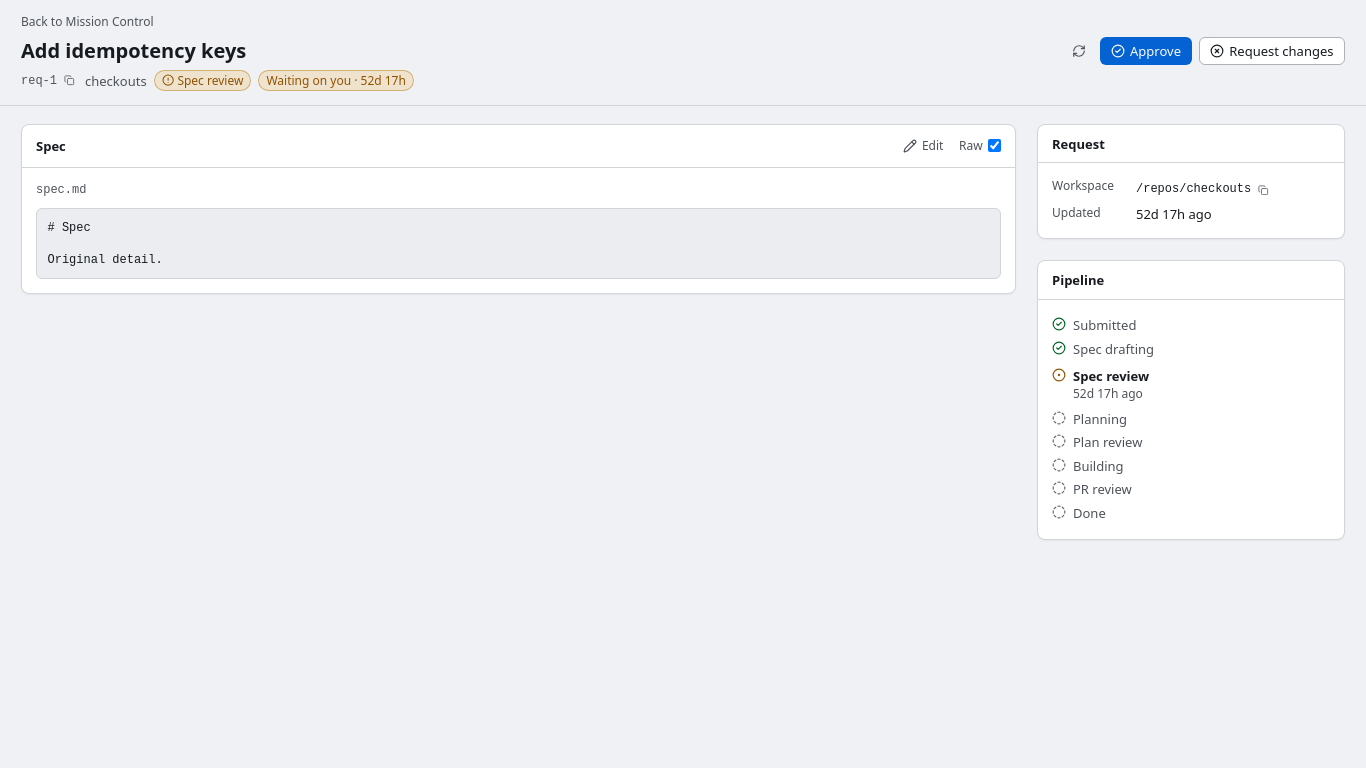
Test case: a conflict without a reported hash cannot be re-based
Expected: the heading "Add idempotency keys" is shown, x1=21 y1=37 x2=246 y2=64
Expected: the button "Approve" is enabled, x1=1100 y1=37 x2=1192 y2=65
Click the button "Edit": (923, 146) x1=894 y1=134 x2=952 y2=158
(page scrolled)
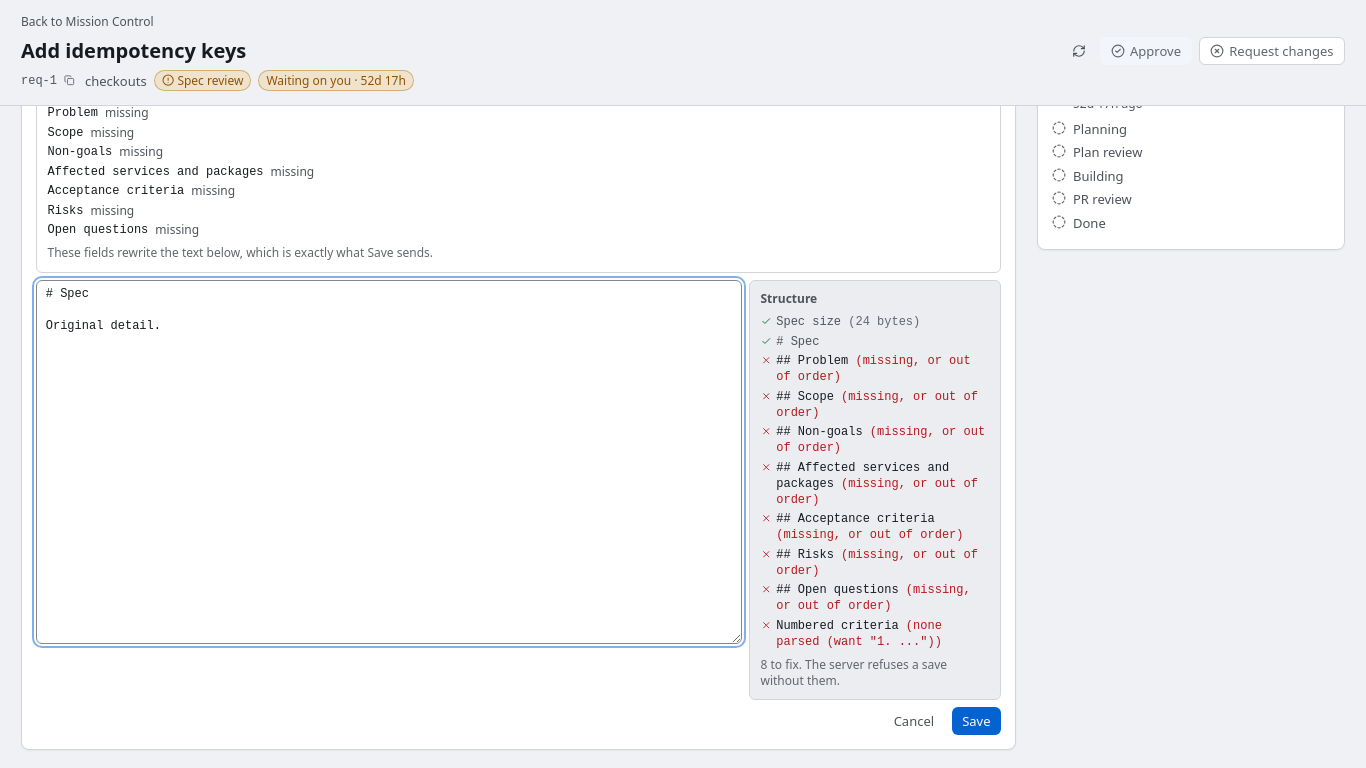
In the text box named "Edit spec.md": (389, 462) x1=36 y1=280 x2=742 y2=644, type " more"
(page scrolled)
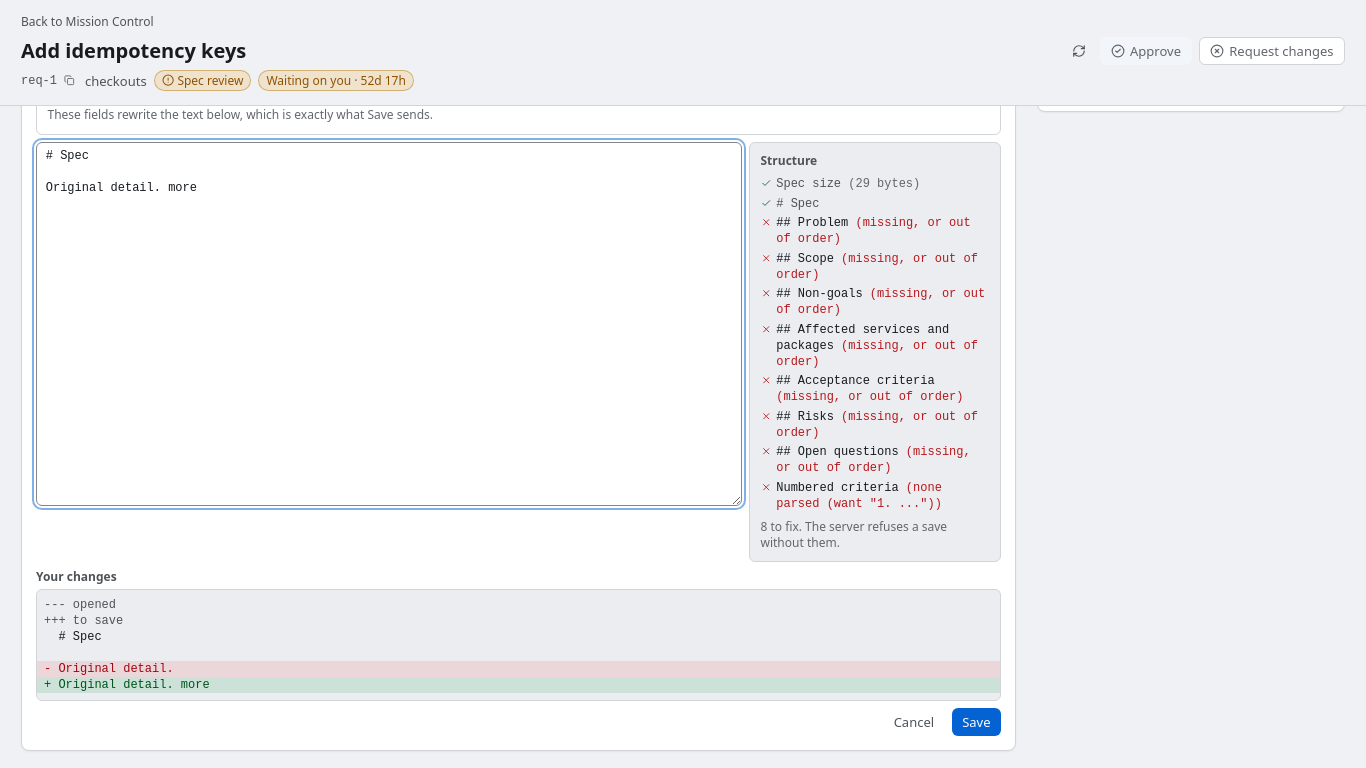
Click the button "Save": (976, 722) x1=952 y1=708 x2=1001 y2=736
(page scrolled)
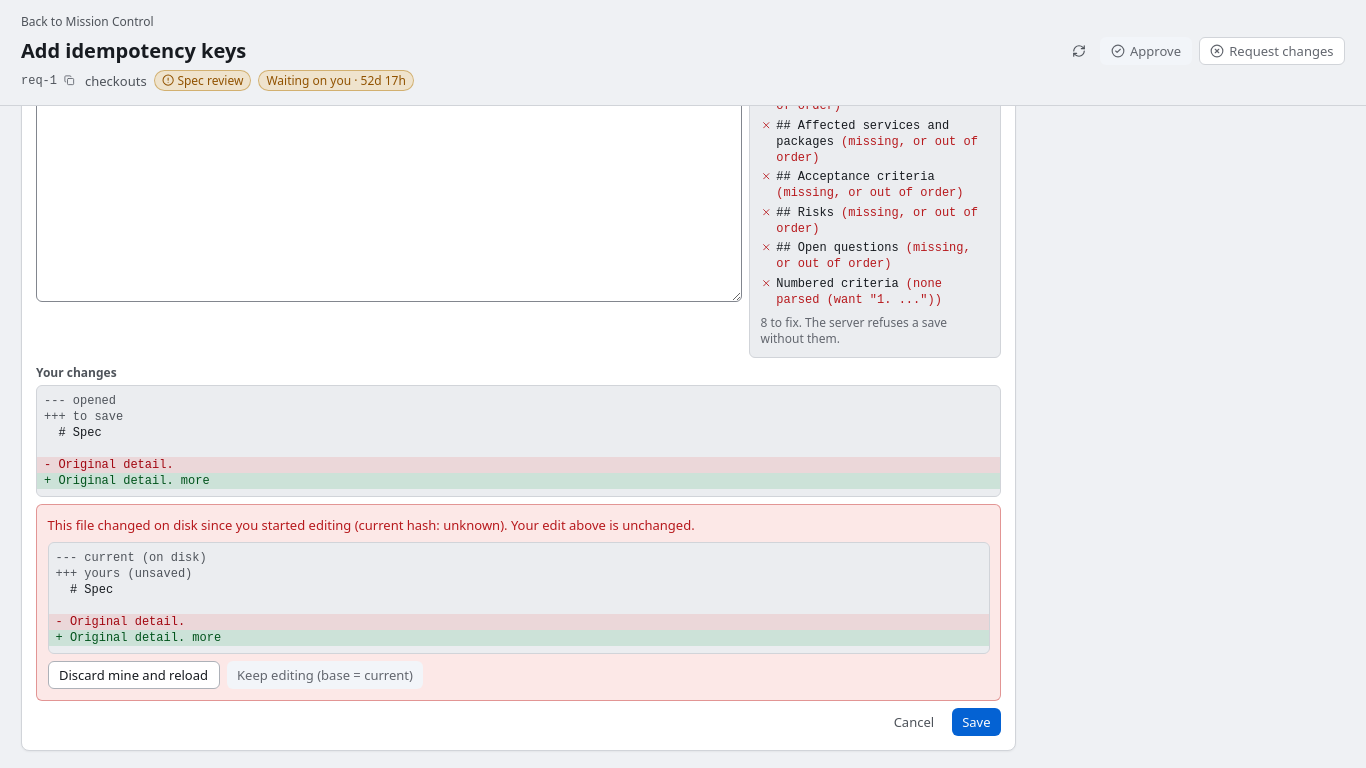
Now the message with test id "edit-conflict" is shown, box x1=36 y1=504 x2=1001 y2=701
Now the message with test id "edit-conflict" shows "current hash: unknown", box x1=48 y1=516 x2=695 y2=534
Now the button "Keep editing (base = current)" is disabled, box x1=226 y1=661 x2=423 y2=689
